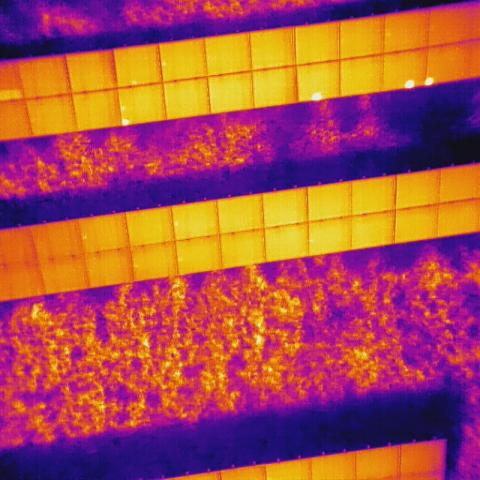fault: (0, 88, 23, 100), (309, 90, 325, 102), (423, 74, 435, 88), (403, 78, 415, 89), (119, 116, 132, 126), (118, 103, 127, 111), (130, 78, 138, 86), (161, 59, 166, 68)
